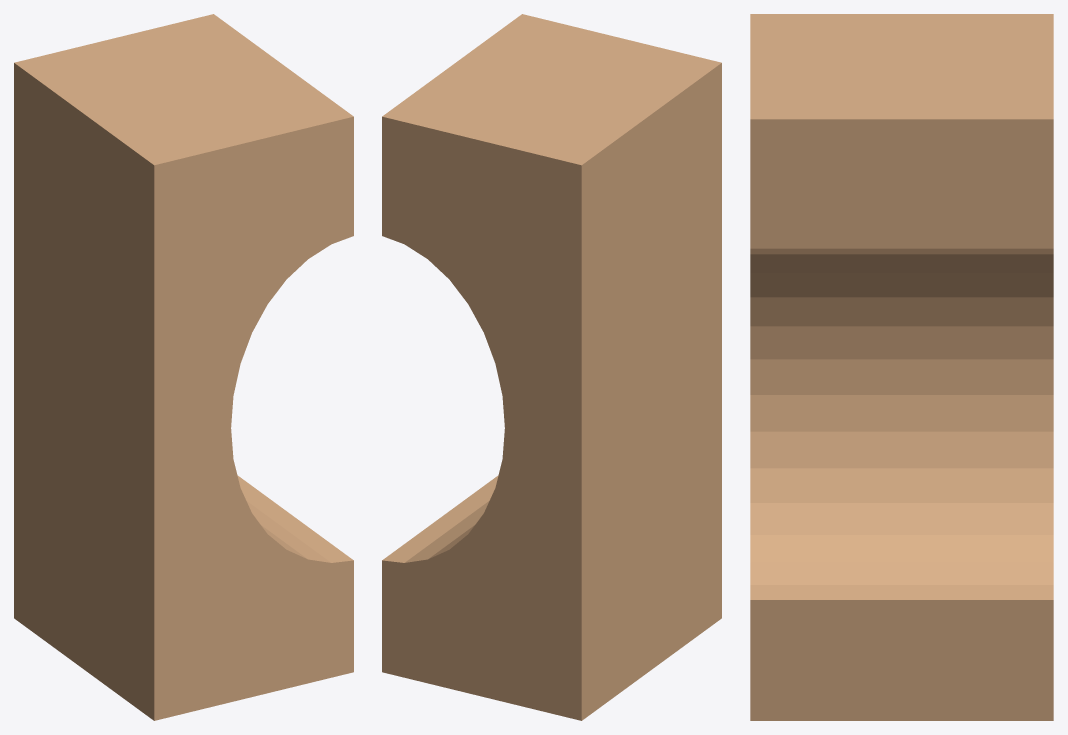
Rendered from 1per2 Balok Bolong  Coklat Lvl 3.fbx.
3 renders of one model, left to right at view 1: azimuth 30°, elevation 25°; view 2: azimuth 150°, elevation 25°; view 3: azimuth 270°, elevation 25°, orthographic. The views are drawn at different scales.
Visible parts, largest first — view 1: Cube.013; view 2: Cube.013; view 3: Cube.013.
Part boxes in pixels (left/top/right/bottom): Cube.013: left=14, top=14, right=353, bottom=720; Cube.013: left=382, top=14, right=721, bottom=720; Cube.013: left=750, top=14, right=1053, bottom=720.
Size of the model in its own units: 165 by 437 by 200.
